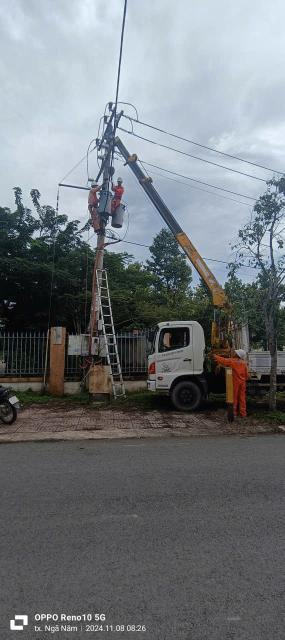harness: (85, 201, 100, 209), (110, 194, 125, 200)
helmet: (234, 346, 246, 360), (88, 178, 100, 187), (115, 176, 125, 182)
